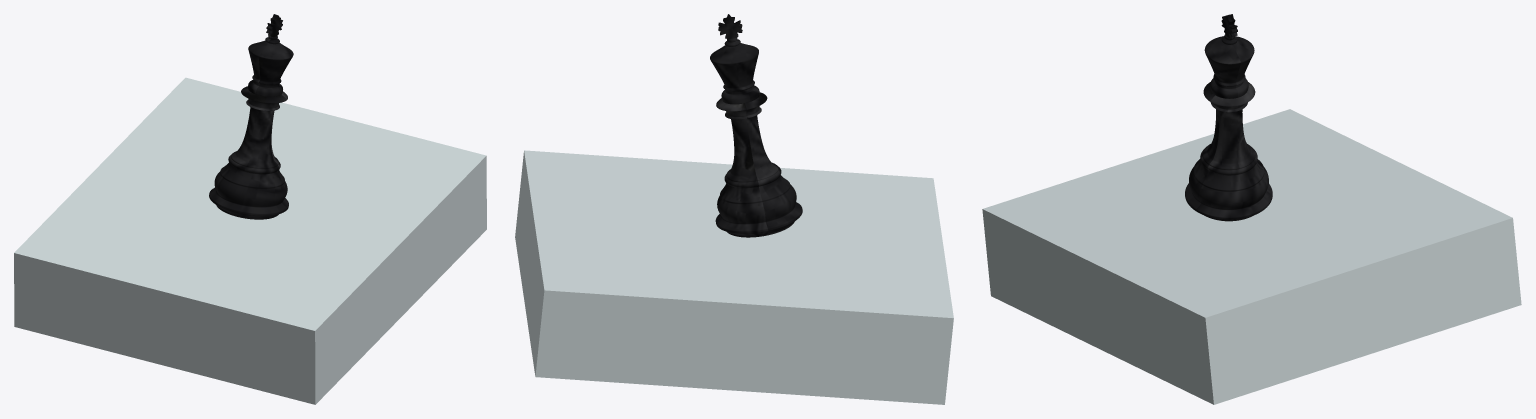
The model's file is black.glb.
The picture shows the model from 3 angles, left to right: view 1: azimuth 30°, elevation 25°; view 2: azimuth 150°, elevation 25°; view 3: azimuth 270°, elevation 25°; orthographic projection. The views are drawn at different scales.
Parts seen in each view (by area): view 1: Base, King; view 2: Base, King; view 3: Base, King.
Part boxes in pixels (x1,y1,x2,y2): Base: [14, 77, 486, 404]; King: [209, 14, 293, 219]; Base: [515, 150, 953, 404]; King: [710, 14, 802, 237]; Base: [982, 109, 1521, 404]; King: [1185, 14, 1272, 221].
Size of the model in its own units: 28.3 by 18.07 by 27.69.
2 materials, 1 textured.
